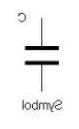Capacitor: (18, 35, 63, 76)
